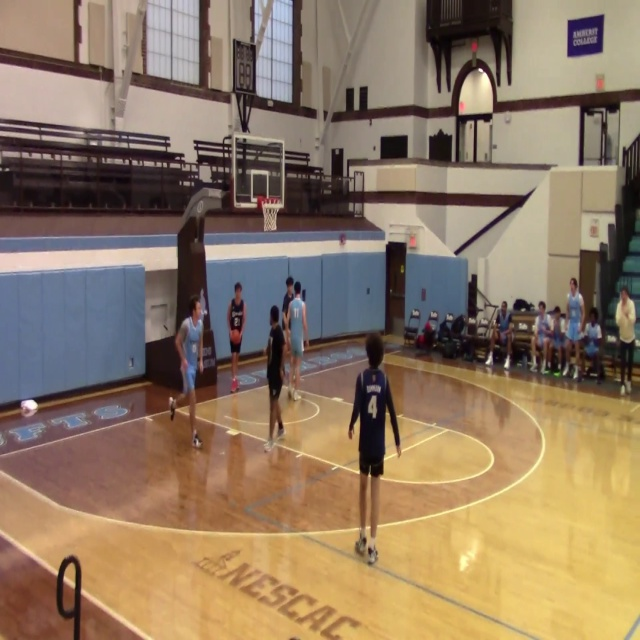Basketball: (229, 330, 241, 344)
